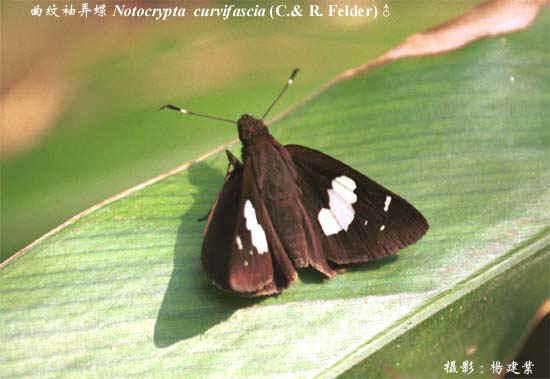Hesperiidae: (158, 60, 424, 307)
